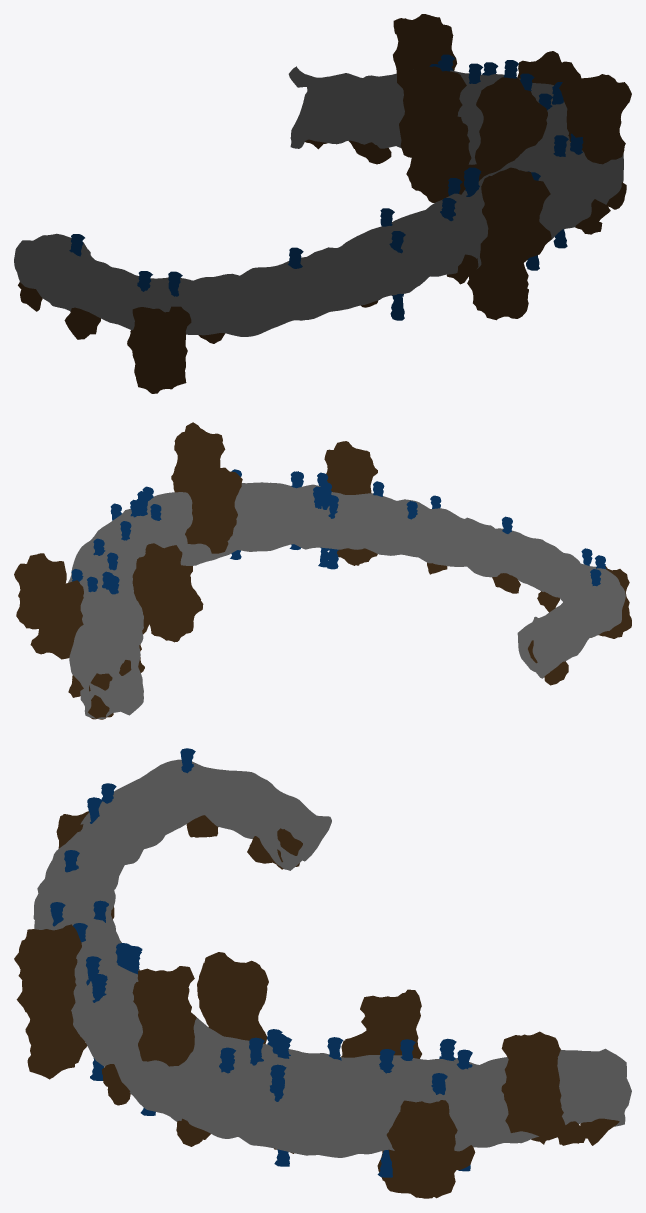
File: M_Cave_v3_CO.fbx
3 renders of one model, top to bottom at view 1: azimuth 30°, elevation 25°; view 2: azimuth 150°, elevation 25°; view 3: azimuth 270°, elevation 25°, orthographic. The views are drawn at different scales.
Visible parts, largest first — view 1: merge2; view 2: merge2; view 3: merge2.
Boxes of the visible parts, bbox=[...] form: merge2: bbox=[14, 14, 631, 393]; merge2: bbox=[14, 422, 631, 719]; merge2: bbox=[14, 748, 631, 1198].
Size of the model in its own units: 265 by 82.35 by 206.
